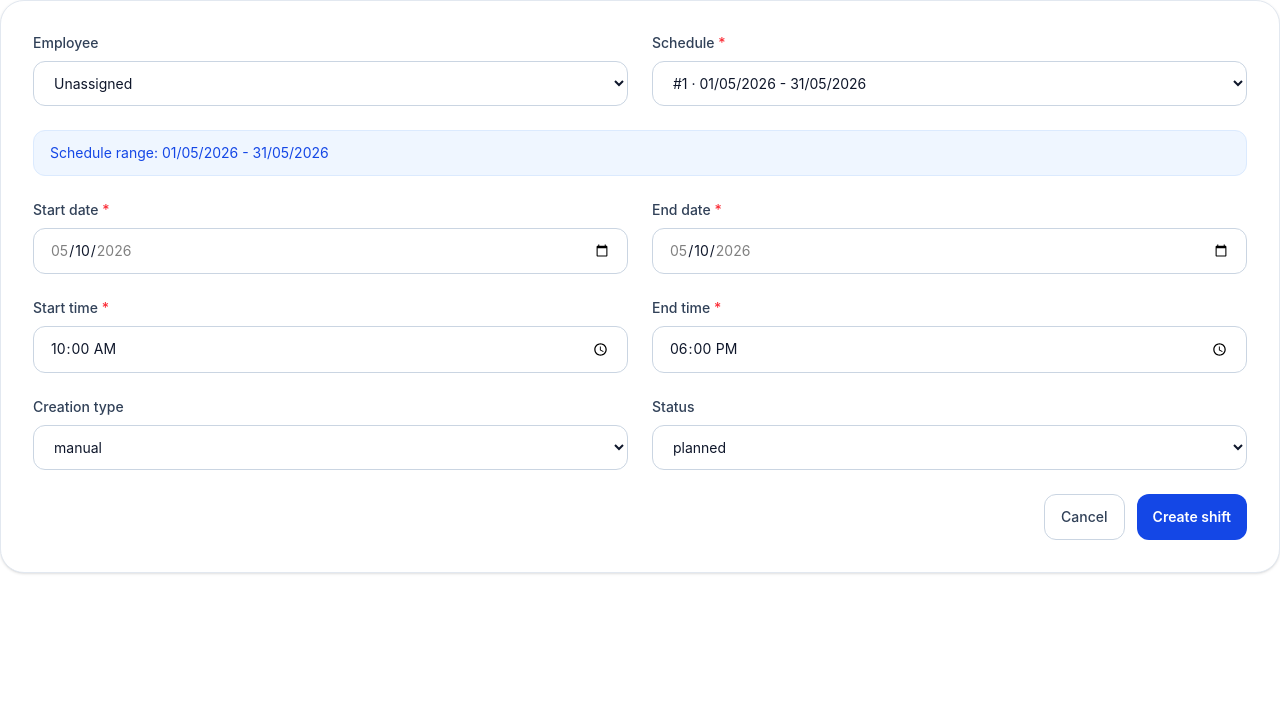
Scenario: ShiftForm › loads active contract and applies fixed schedule when employee is selected
This screenshot has width=1280, height=720.
Select "Marta Lopez" in the dropdown with id "employee-id" at (330, 84), box x1=33 y1=61 x2=628 y2=106
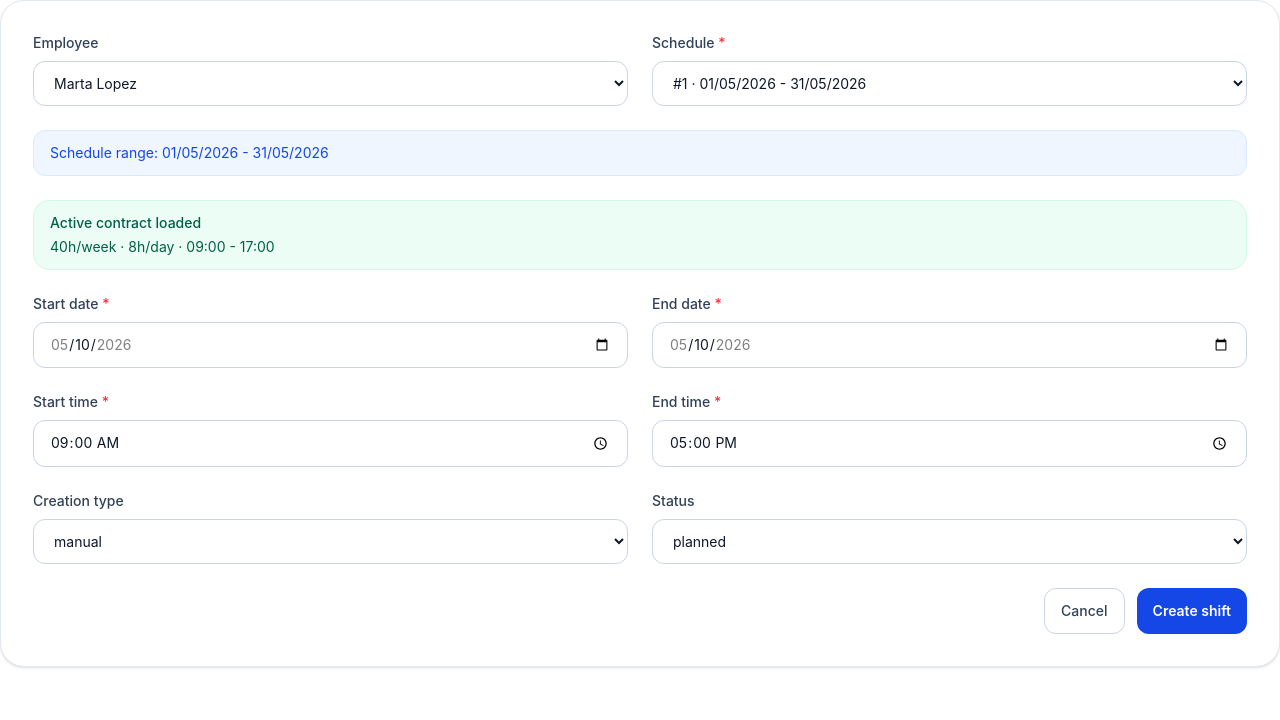
Expected: the time field with id "start-time" holds "09:00", x1=33 y1=420 x2=628 y2=467
Expected: the time field with id "end-time" holds "17:00", x1=652 y1=420 x2=1247 y2=467
Expected: the text "Active contract loaded" is shown, x1=50 y1=214 x2=201 y2=231
